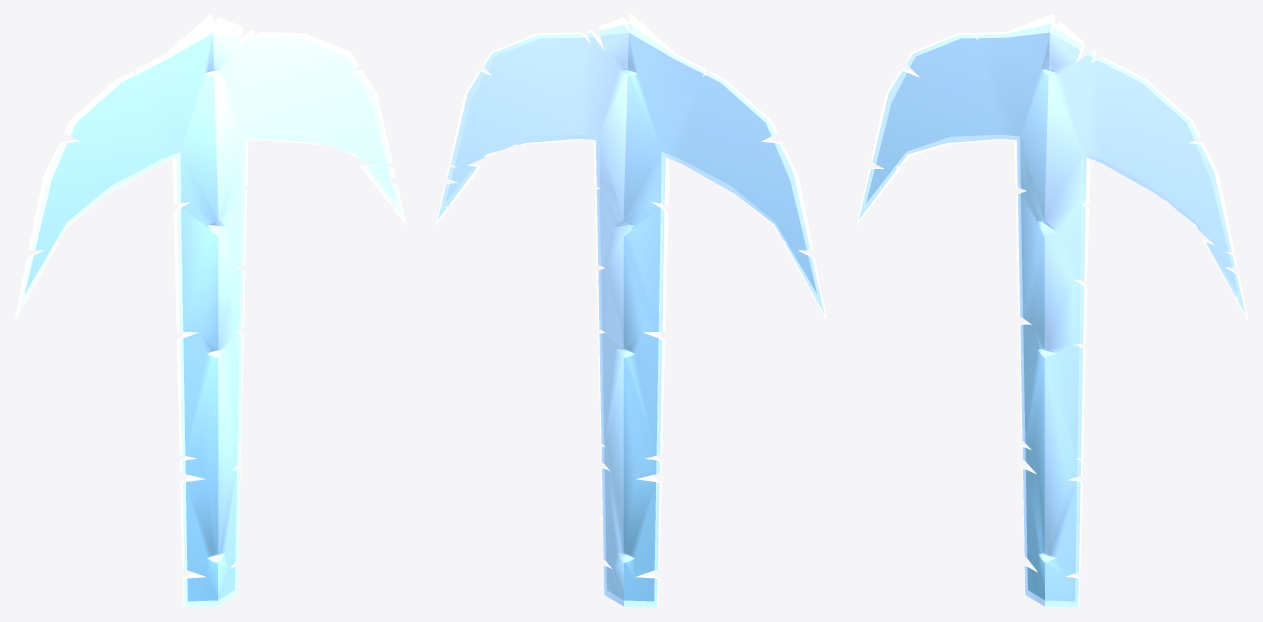
File: steel_blade_scratched_049.glb
3 renders of one model, left to right at view 1: azimuth 30°, elevation 25°; view 2: azimuth 150°, elevation 25°; view 3: azimuth 330°, elevation 25°, orthographic.
Visible parts, largest first — view 1: steel_blade_scratched.049; view 2: steel_blade_scratched.049; view 3: steel_blade_scratched.049.
Part boxes in pixels (x1,y1,x2,y2): steel_blade_scratched.049: [14, 14, 406, 607]; steel_blade_scratched.049: [435, 14, 827, 607]; steel_blade_scratched.049: [856, 14, 1248, 607].
Size of the model in its own units: 8.24 by 11.78 by 0.5822.
1 material, 1 textured.
